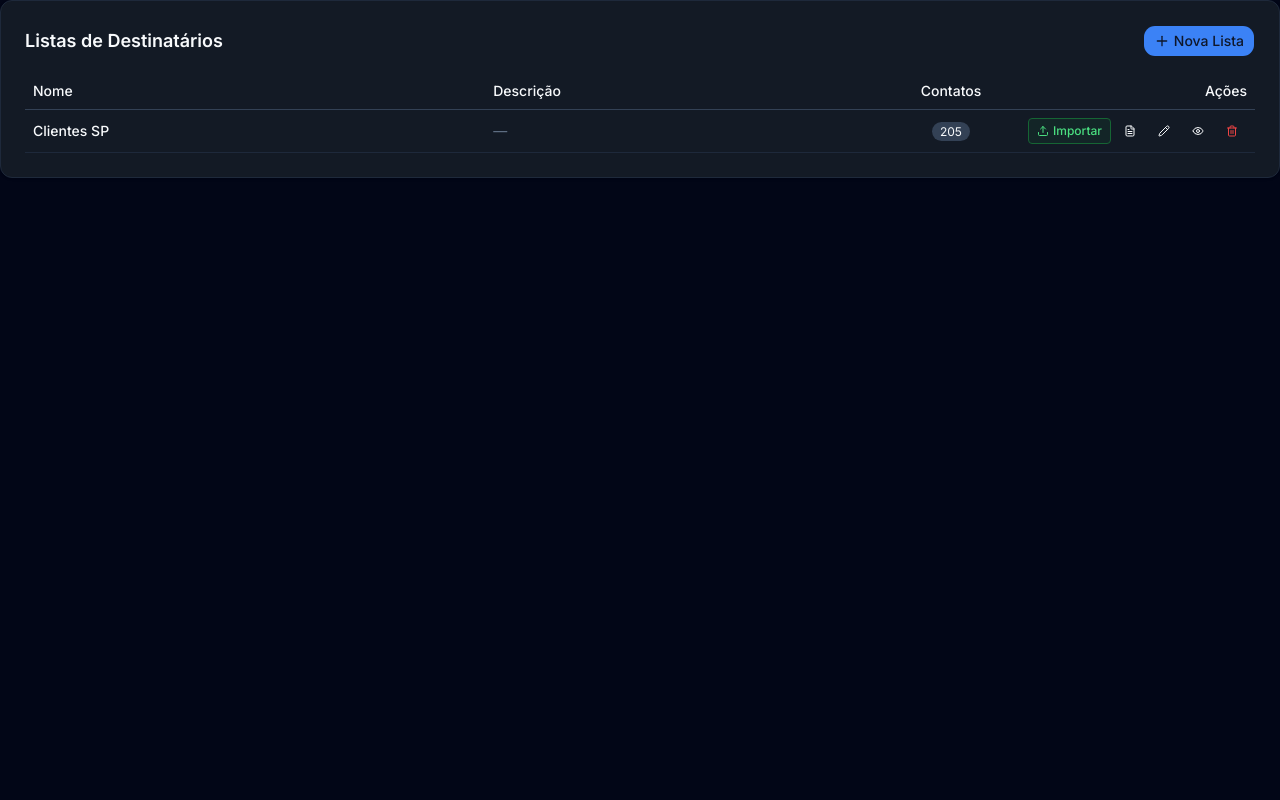
ListasTab › limita a renderização a 200 contatos por vez
Click the button named "Editar lista Clientes SP" at (1164, 131), box [1149,119,1179,143]
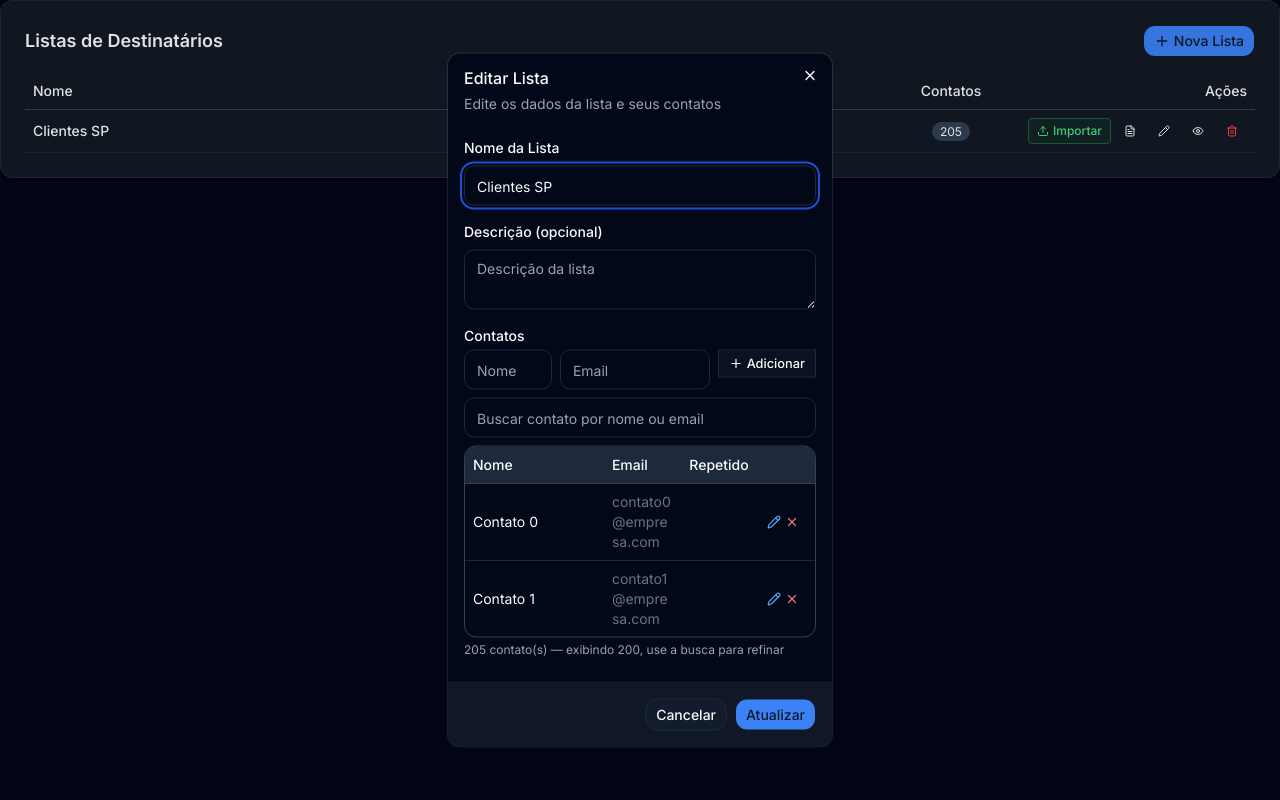
Result: the heading "Editar Lista" is shown at [464,68,549,88]
Result: the text "205 contato(s) — exibindo 200, use a busca para refinar" is shown at [464,642,816,658]
